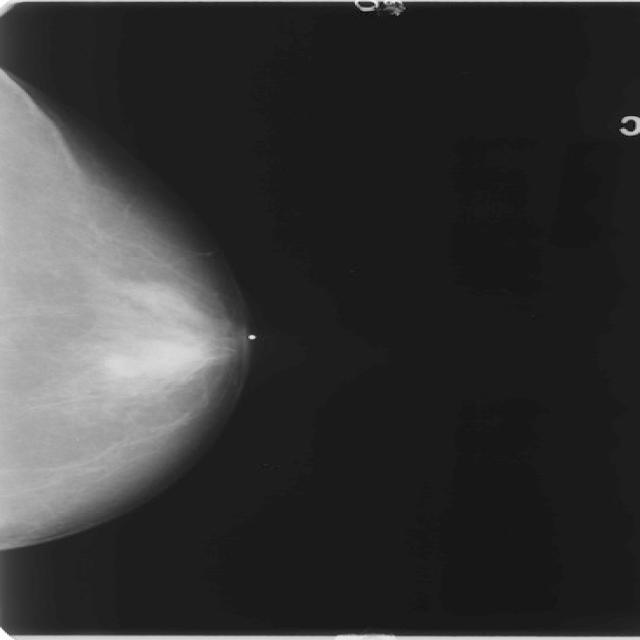tumour: (105, 342, 205, 378)
